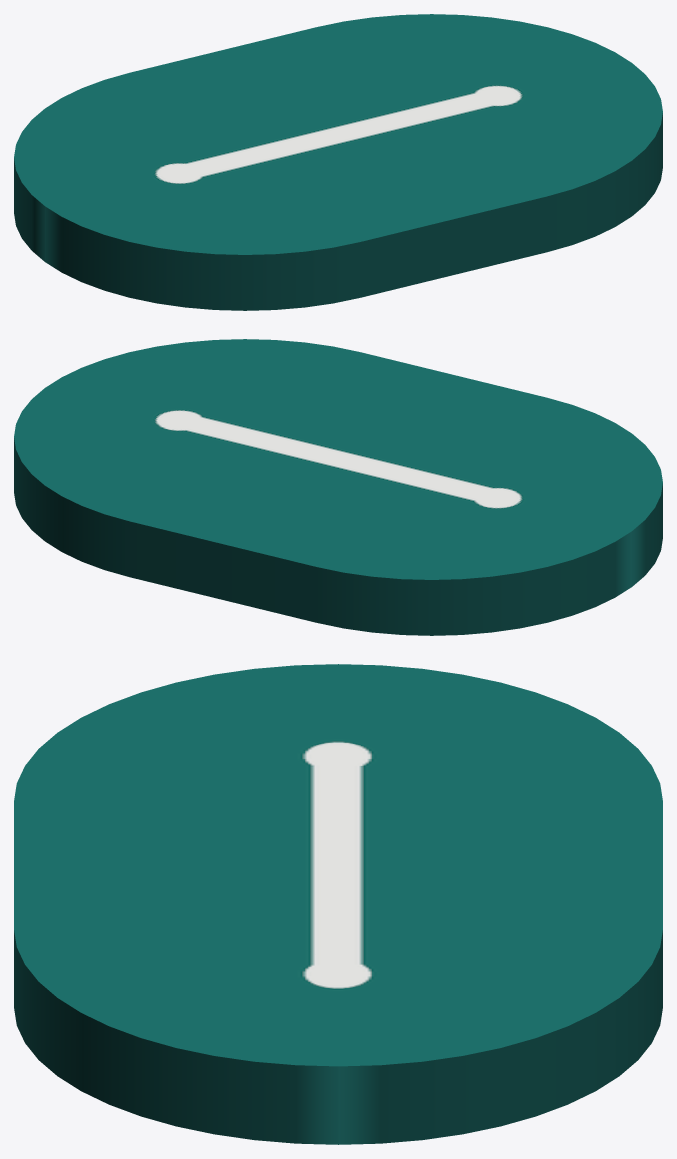
The model's file is stroke_straight.glb.
The picture shows the model from 3 angles, top to bottom: view 1: azimuth 30°, elevation 25°; view 2: azimuth 150°, elevation 25°; view 3: azimuth 270°, elevation 25°; orthographic projection. The views are drawn at different scales.
Visible parts, largest first — view 1: stroke_straight; view 2: stroke_straight; view 3: stroke_straight.
Part boxes in pixels (bbox=[...]): stroke_straight: bbox=[14, 14, 662, 310]; stroke_straight: bbox=[14, 339, 662, 635]; stroke_straight: bbox=[14, 664, 662, 1144].
Size of the model in its own units: 0.044 by 0.004 by 0.03.
2 materials, 1 textured.
